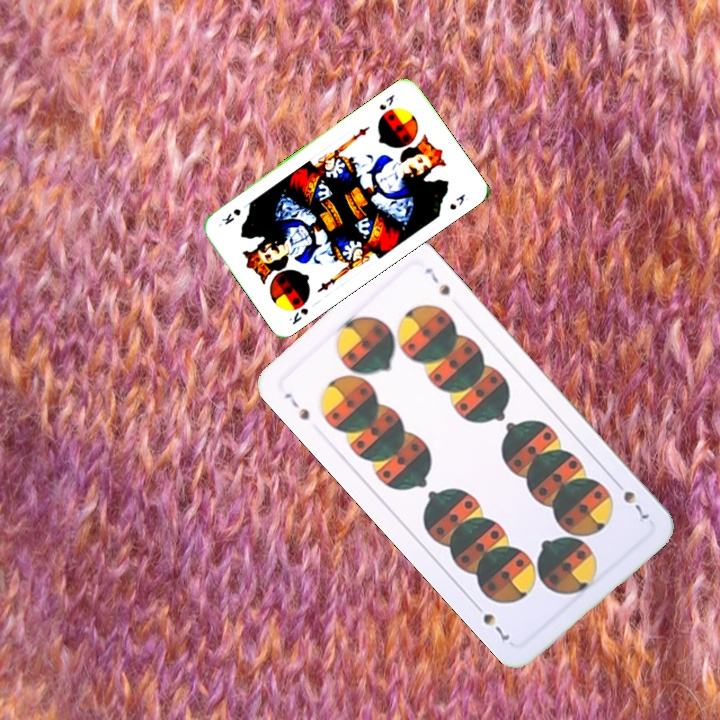S7: (610, 475, 652, 523), (280, 388, 312, 423)
SK: (284, 304, 311, 327), (375, 90, 397, 113)
